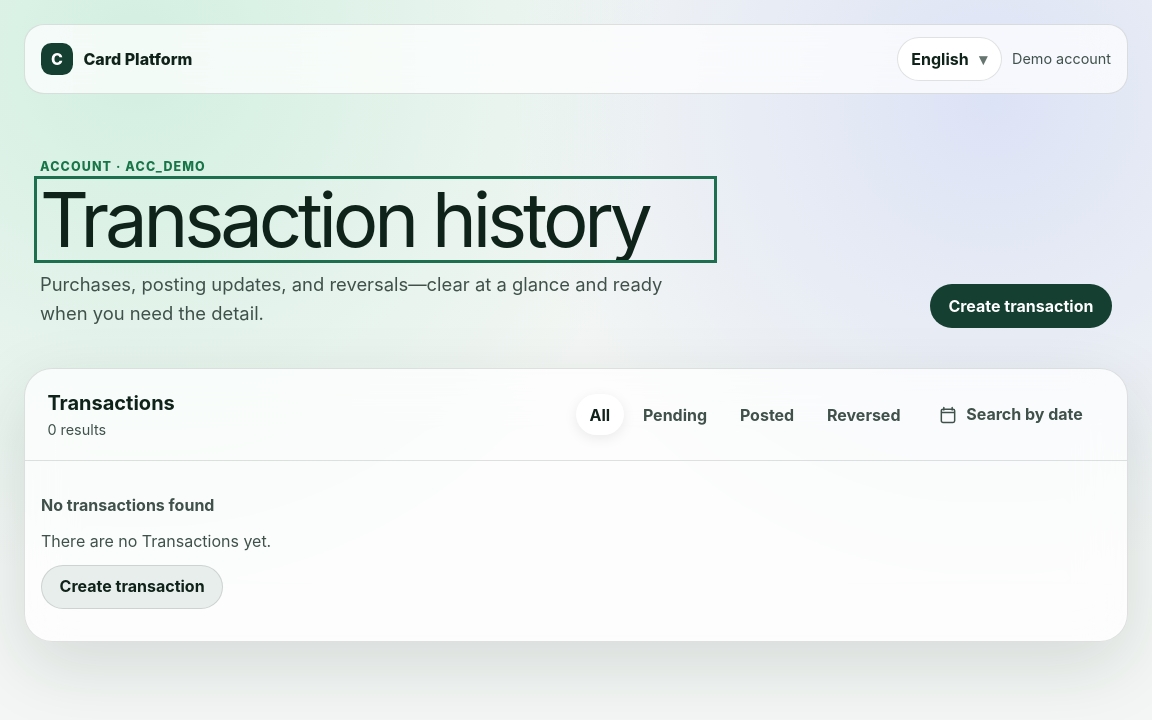
Test: App › synchronizes server-side filtering and opaque keyset pagination
Click the button "Posted".
click(767, 415)  # box [726, 394, 808, 435]
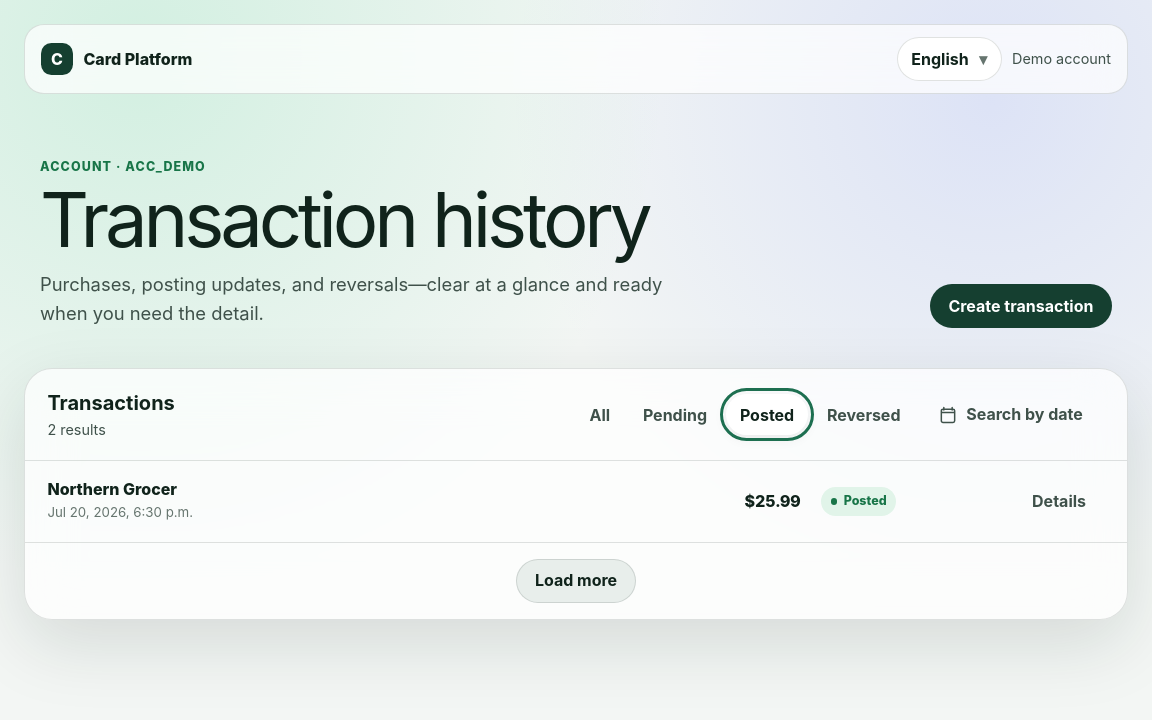
Expected: the text "Northern Grocer" is shown, [47, 479, 177, 499]
Click the button "Load more".
click(576, 581)  # box [516, 559, 636, 603]
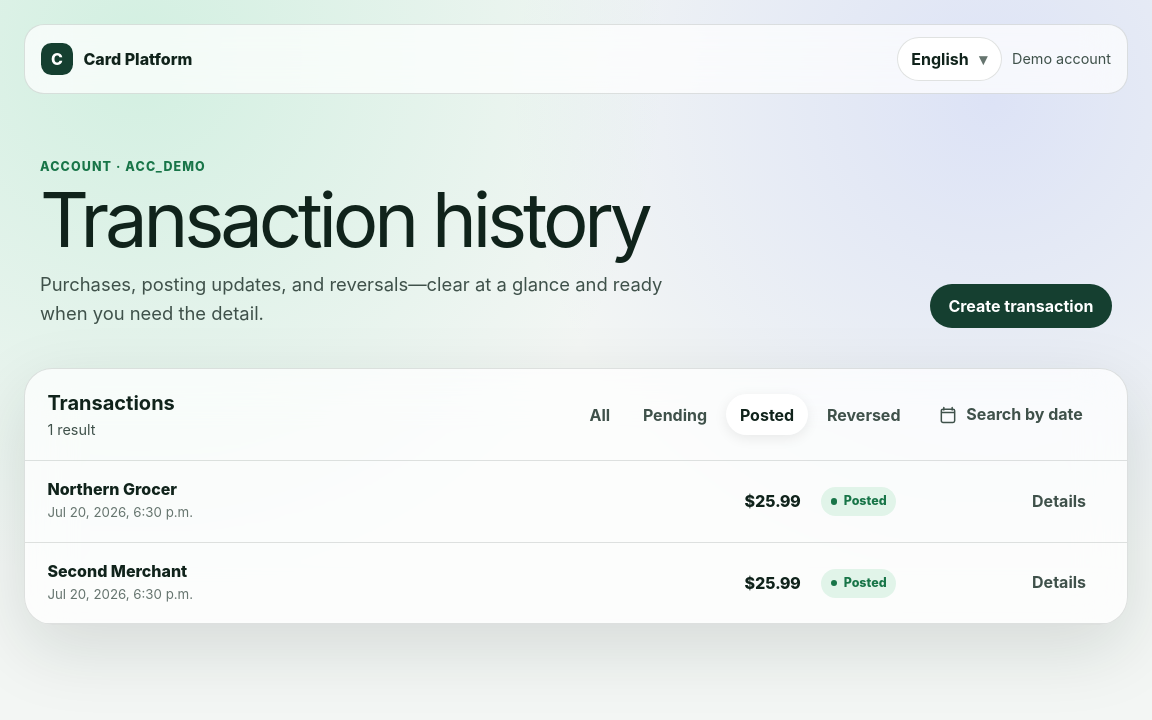
Expected: the text "Second Merchant" is shown, [47, 561, 187, 581]
